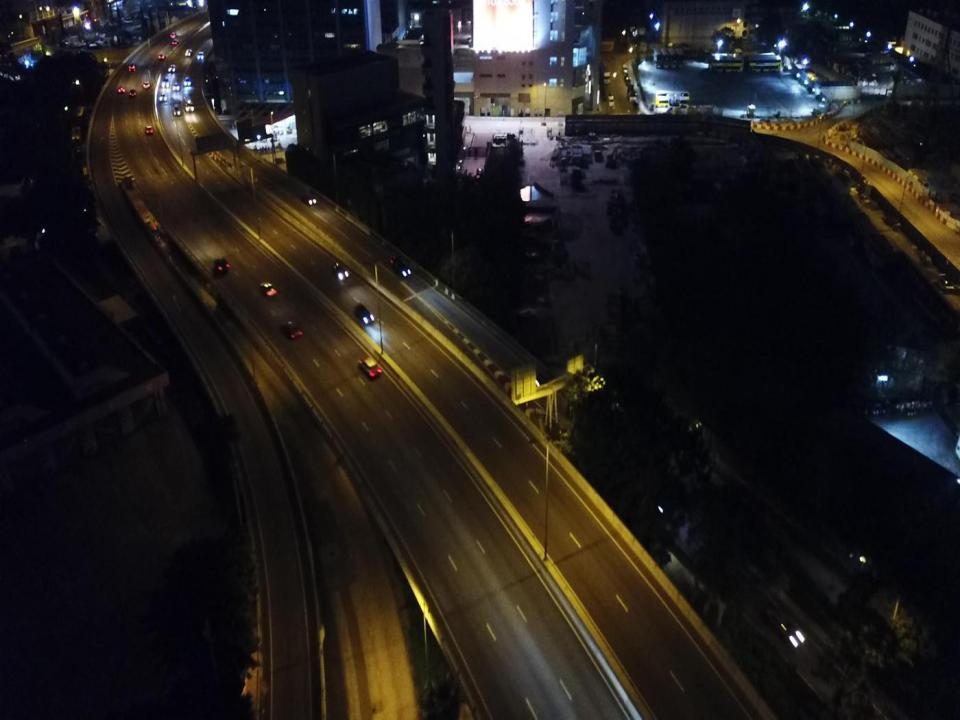bus: (655, 88, 690, 109), (709, 53, 744, 74), (746, 54, 781, 73), (653, 46, 662, 68), (661, 48, 669, 70), (668, 46, 676, 68), (676, 46, 684, 68)
car: (360, 356, 382, 377), (281, 320, 301, 339), (356, 304, 374, 324), (392, 258, 410, 277), (938, 273, 955, 293), (334, 263, 349, 279), (214, 258, 230, 273), (260, 282, 276, 296), (300, 194, 317, 206), (144, 126, 154, 135), (173, 103, 180, 115), (117, 85, 126, 93), (184, 77, 191, 86), (129, 88, 136, 96), (172, 82, 179, 90), (160, 93, 166, 102), (186, 49, 193, 56), (198, 51, 204, 59), (628, 90, 636, 96), (170, 65, 176, 72), (158, 54, 166, 59), (172, 39, 178, 44), (625, 74, 630, 80)
truck: (600, 60, 610, 84), (183, 94, 193, 112), (608, 93, 614, 107)
van: (162, 76, 168, 88), (128, 63, 136, 71), (143, 80, 150, 88), (170, 32, 178, 38), (623, 63, 627, 73)
